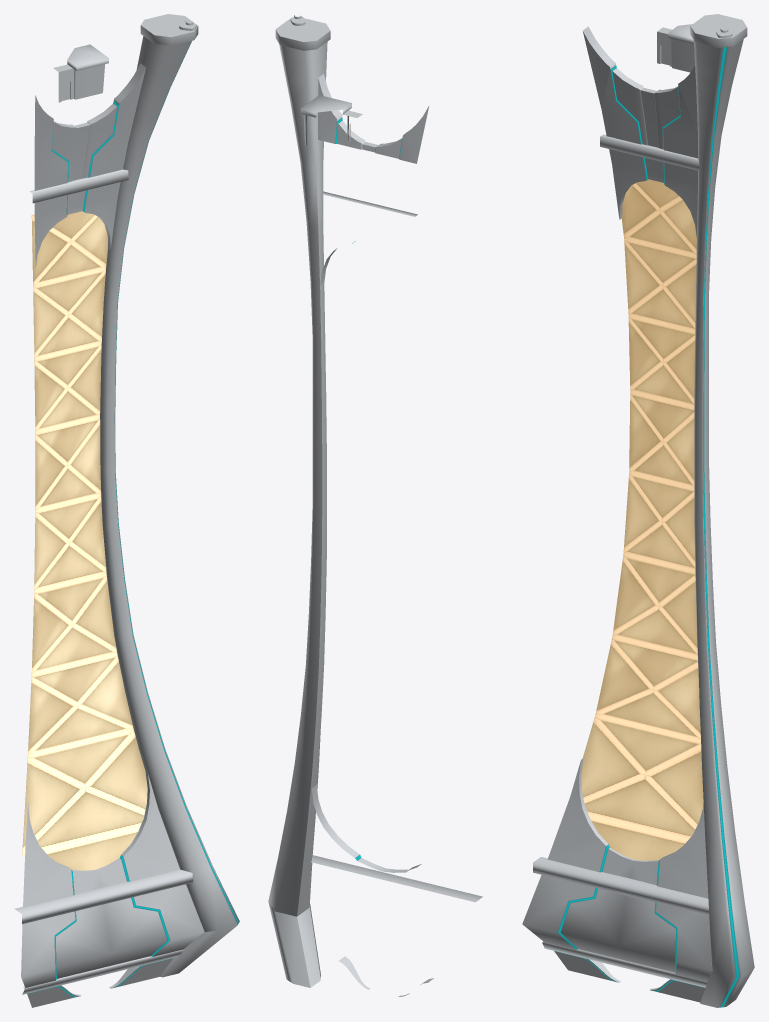
The model's file is t1_b_prism_main.glb.
3 renders of one model, left to right at view 1: azimuth 30°, elevation 25°; view 2: azimuth 150°, elevation 25°; view 3: azimuth 330°, elevation 25°, orthographic. The views are drawn at different scales.
Parts seen in each view (by area): view 1: t1_b_prism_main_body; view 2: t1_b_prism_main_body; view 3: t1_b_prism_main_body.
Boxes of the visible parts, <box> form: t1_b_prism_main_body: <box>14,14,239,1007</box>; t1_b_prism_main_body: <box>268,15,482,996</box>; t1_b_prism_main_body: <box>522,14,754,1007</box>.
Size of the model in its own units: 31.1 by 131 by 16.94.
3 materials, 2 textured.
